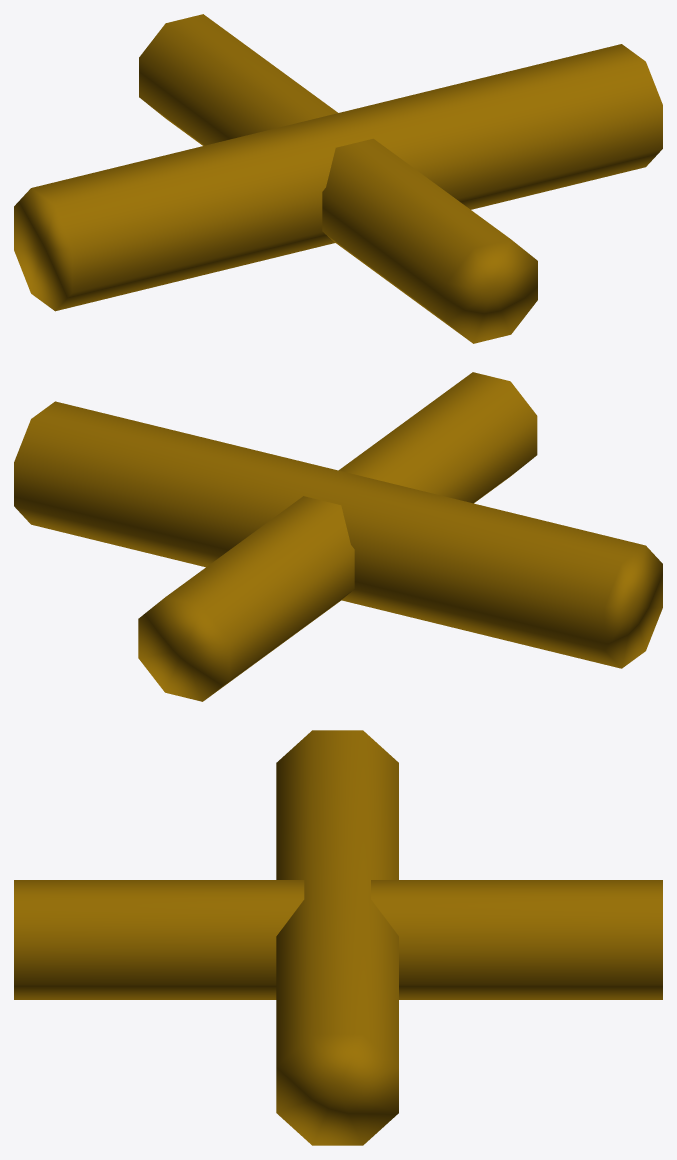
Rendered from Campfire_v1.fbx.
3 views of the same model, one above another, from view 1: azimuth 30°, elevation 25°; view 2: azimuth 150°, elevation 25°; view 3: azimuth 270°, elevation 25° (orthographic). The views are drawn at different scales.
Visible parts, largest first — view 1: polySurface2; view 2: polySurface2; view 3: polySurface2.
Boxes of the visible parts, box(x1,y1,x2,y2) form: polySurface2: box(14, 14, 662, 343); polySurface2: box(14, 372, 662, 701); polySurface2: box(14, 730, 662, 1145).
Bounding box in the file's own units: 11.98 × 2.05 × 10.82.
